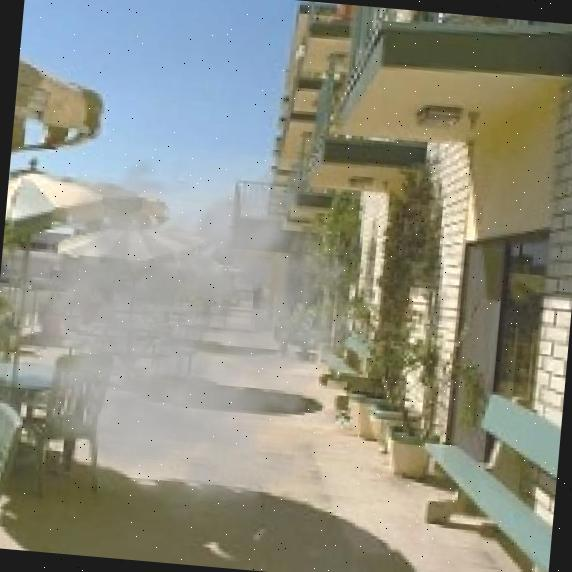smoke: (0, 135, 389, 551)
